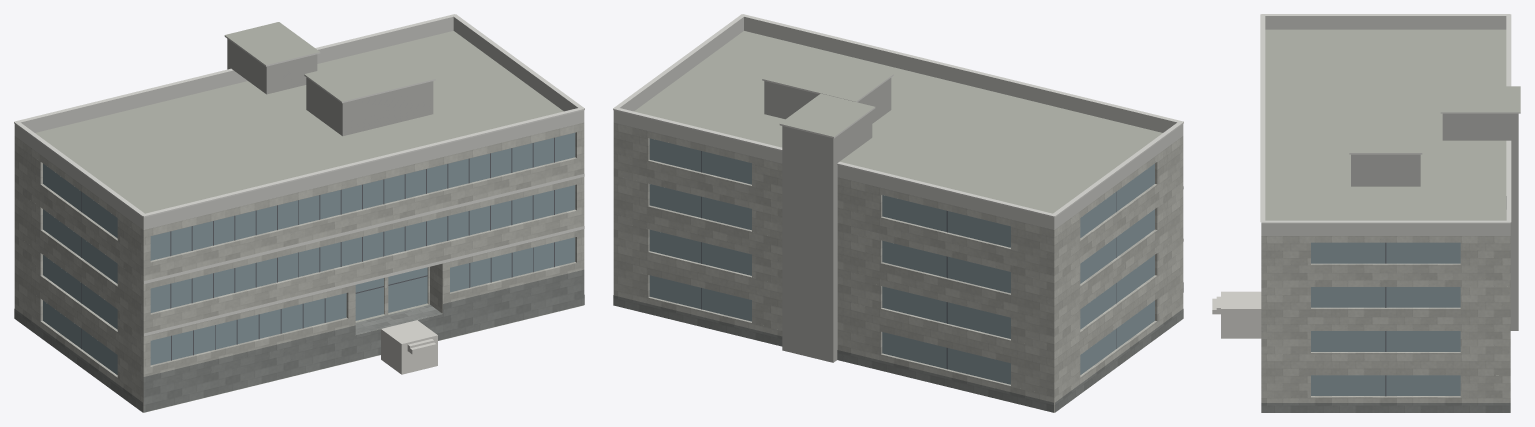
3 views of the same model, side by side, from view 1: azimuth 30°, elevation 25°; view 2: azimuth 150°, elevation 25°; view 3: azimuth 270°, elevation 25° (orthographic). The views are drawn at different scales.
Visible parts, largest first — view 1: b97__wall, b97__roof, b97__glass, b97__base, b97__parapet, b97__trim, b97__wall2, b97__entranceStair, b97__frame; view 2: b97__wall, b97__roof, b97__glass, b97__wall2, b97__parapet, b97__base, b97__trim; view 3: b97__roof, b97__wall, b97__glass, b97__parapet, b97__wall2, b97__trim, b97__base, b97__entranceStair.
Part boxes in pixels (x1,y1,x2,y2): b97__wall: [14, 122, 584, 412]; b97__roof: [35, 22, 583, 412]; b97__glass: [43, 133, 575, 374]; b97__base: [14, 269, 584, 412]; b97__parapet: [14, 16, 584, 229]; b97__trim: [14, 14, 584, 336]; b97__wall2: [227, 39, 433, 136]; b97__entranceStair: [381, 320, 437, 374]; b97__frame: [81, 137, 554, 360]; b97__wall: [613, 123, 1183, 412]; b97__roof: [634, 31, 1162, 412]; b97__glass: [649, 138, 1154, 384]; b97__wall2: [764, 78, 891, 362]; b97__parapet: [613, 17, 1183, 229]; b97__base: [613, 282, 1183, 412]; b97__trim: [613, 14, 1183, 241]; b97__roof: [1265, 29, 1520, 375]; b97__wall: [1261, 236, 1510, 402]; b97__glass: [1311, 242, 1460, 395]; b97__parapet: [1261, 16, 1510, 235]; b97__wall2: [1351, 113, 1518, 330]; b97__trim: [1260, 14, 1520, 223]; b97__base: [1261, 403, 1510, 412]; b97__entranceStair: [1212, 291, 1261, 338].
Bounding box in the file's own units: 36.5 × 18.29 × 22.78.
Materials: 10 (2 with a texture image).
